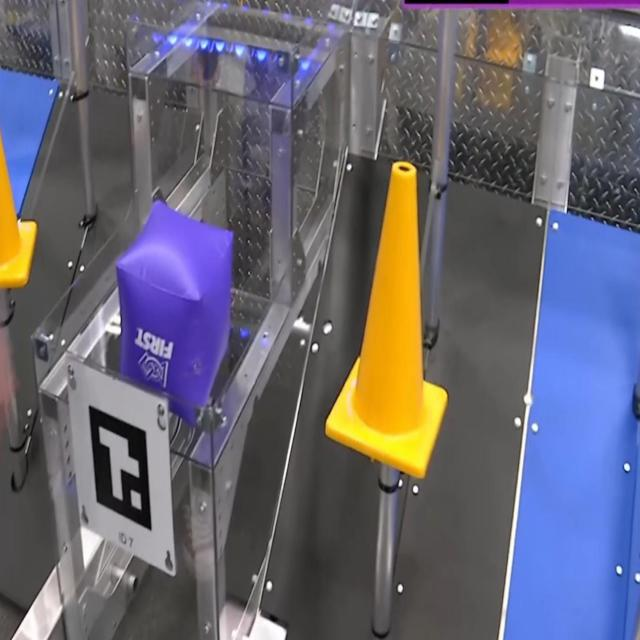frc_cone: (325, 162, 449, 485), (0, 55, 37, 291)
frc_cube: (118, 189, 233, 426)
